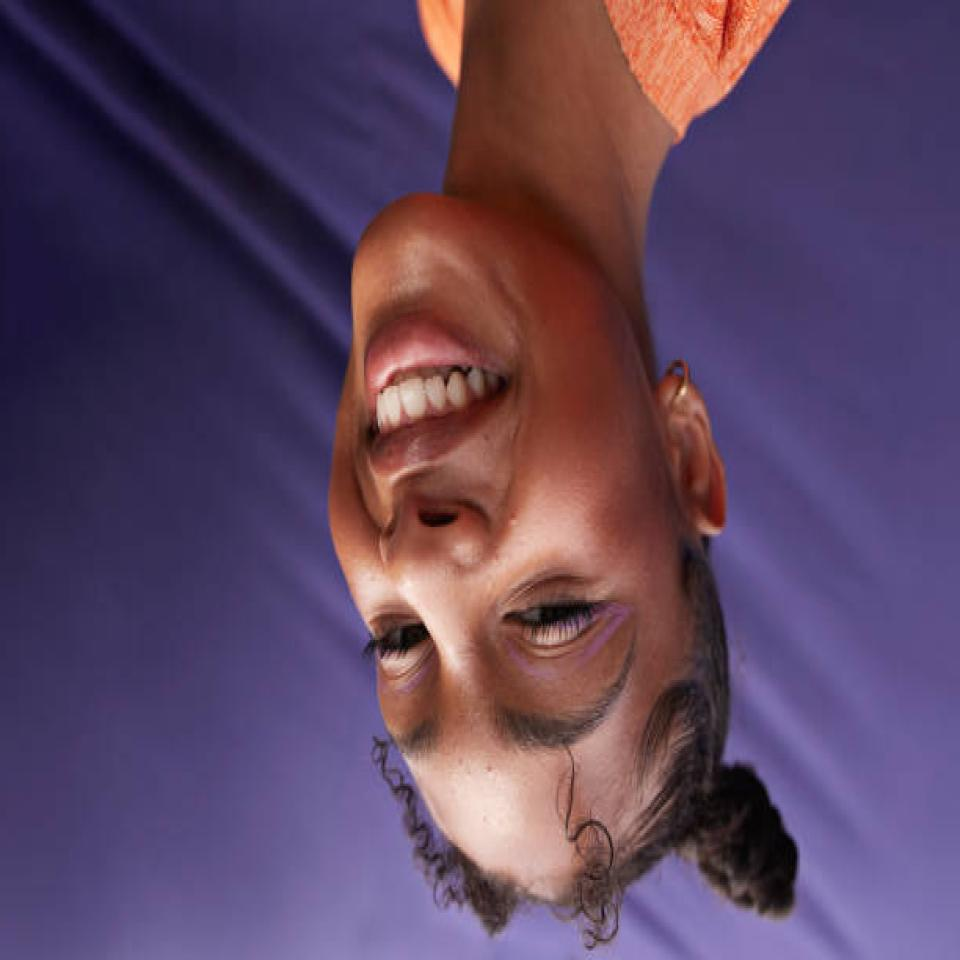Happiness: (334, 193, 666, 875)
